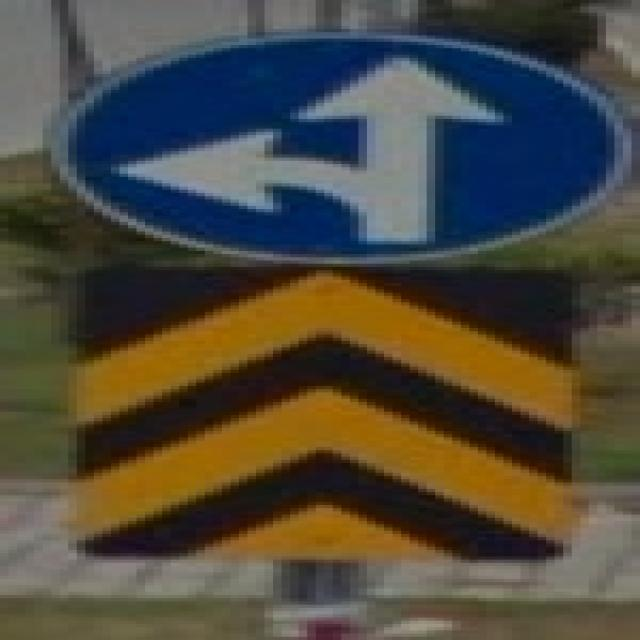Straight or Left: (48, 35, 628, 263)
